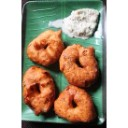vada: (61, 44, 97, 85), (53, 85, 92, 120), (24, 66, 54, 111), (28, 29, 60, 64)
